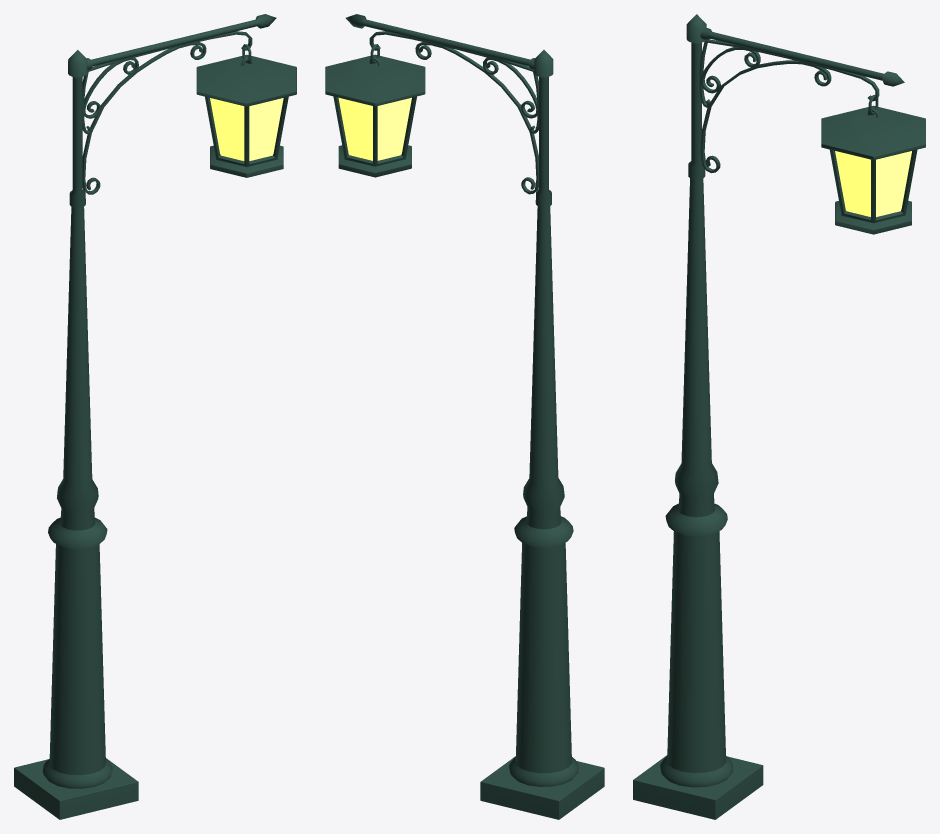
The model's file is Street_Vintage_L_OrnamentalSupport.fbx.
The picture shows the model from 3 angles, left to right: view 1: azimuth 30°, elevation 25°; view 2: azimuth 150°, elevation 25°; view 3: azimuth 330°, elevation 25°; orthographic projection. The views are drawn at different scales.
Visible parts, largest first — view 1: Street_Vintage_L_OrnamentalSupport_LOD0; view 2: Street_Vintage_L_OrnamentalSupport_LOD0; view 3: Street_Vintage_L_OrnamentalSupport_LOD0.
Boxes of the visible parts, x1,y1,x2,y2 form: Street_Vintage_L_OrnamentalSupport_LOD0: [14, 14, 296, 819]; Street_Vintage_L_OrnamentalSupport_LOD0: [325, 14, 604, 819]; Street_Vintage_L_OrnamentalSupport_LOD0: [633, 14, 925, 819].
Size of what is drawn, in the model's own units: 138 by 379 by 46.16.
